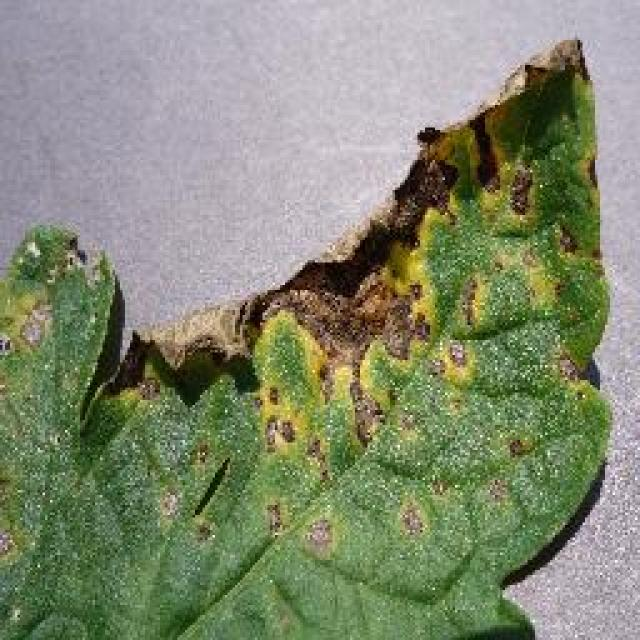Tomato___Septoria_leaf_spot: (0, 40, 608, 638)
